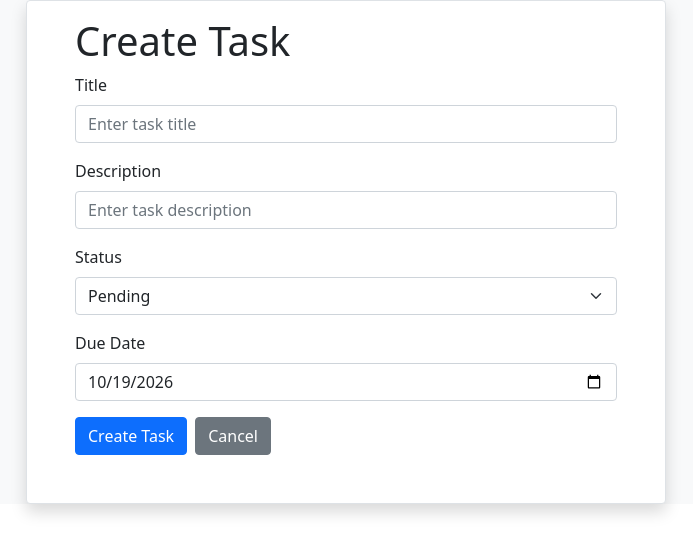
Scenario: addtask functionality › handles server error response
The width and height of the screenshot is (693, 558).
Type "Existing Task" into the field labelled "Title".
click(346, 124); type("Existing Task")  # box [75,105,617,143]
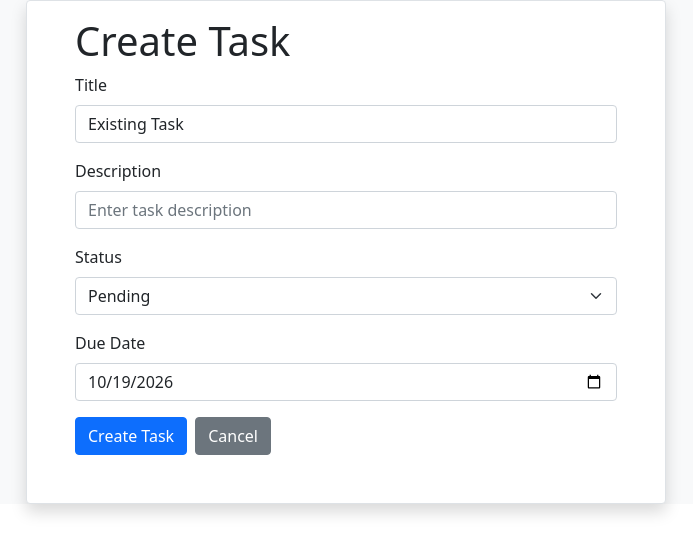
Click the button "Create Task".
click(131, 436)  # box [75,417,187,455]
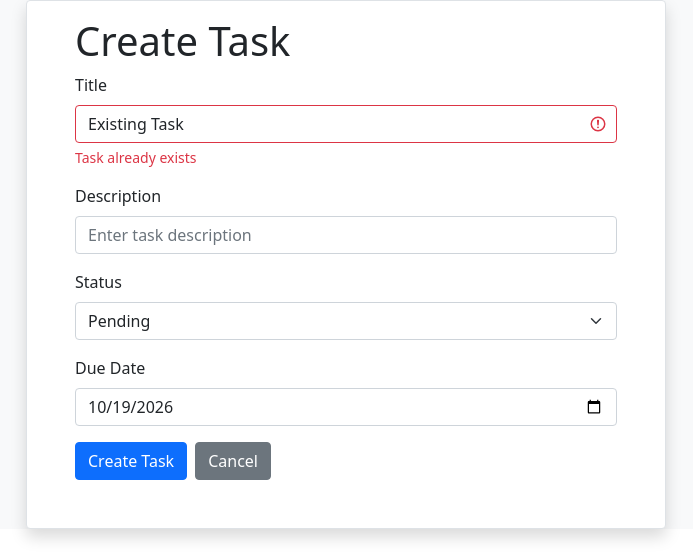
expect the text "Task already exists" is shown: met, box [75,148,197,167]
